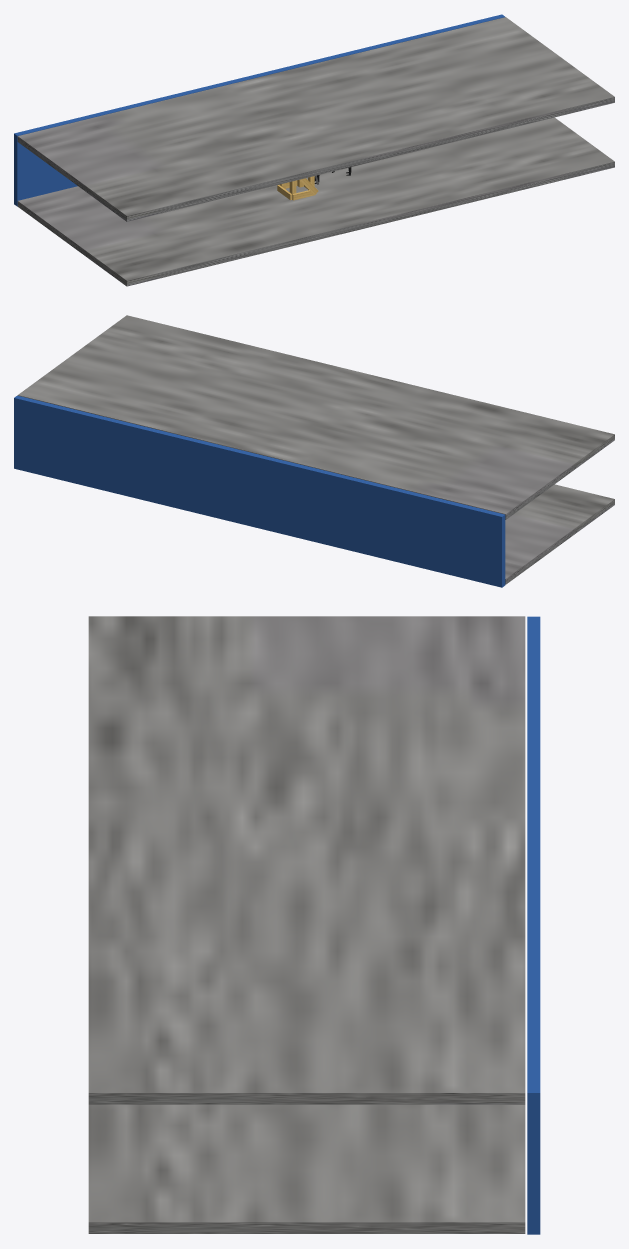
Rendered from centergyDeck3.dae.
3 views of the same model, one above another, from view 1: azimuth 30°, elevation 25°; view 2: azimuth 150°, elevation 25°; view 3: azimuth 270°, elevation 25° (orthographic). The views are drawn at different scales.
Visible parts, largest first — view 1: pCube22, pCube21, pCube28; view 2: pCube22, pCube28, pCube21; view 3: pCube22, pCube21, pCube28.
Part boxes in pixels (<box>): pCube22: <box>17,17,614,221</box>; pCube21: <box>17,117,614,286</box>; pCube28: <box>14,14,504,206</box>; pCube22: <box>17,315,614,519</box>; pCube28: <box>14,395,505,587</box>; pCube21: <box>505,484,614,584</box>; pCube22: <box>88,616,525,1104</box>; pCube21: <box>88,1104,525,1233</box>; pCube28: <box>527,616,540,1234</box>.
Bounding box in the file's own units: 108 × 14.94 × 43.15.
